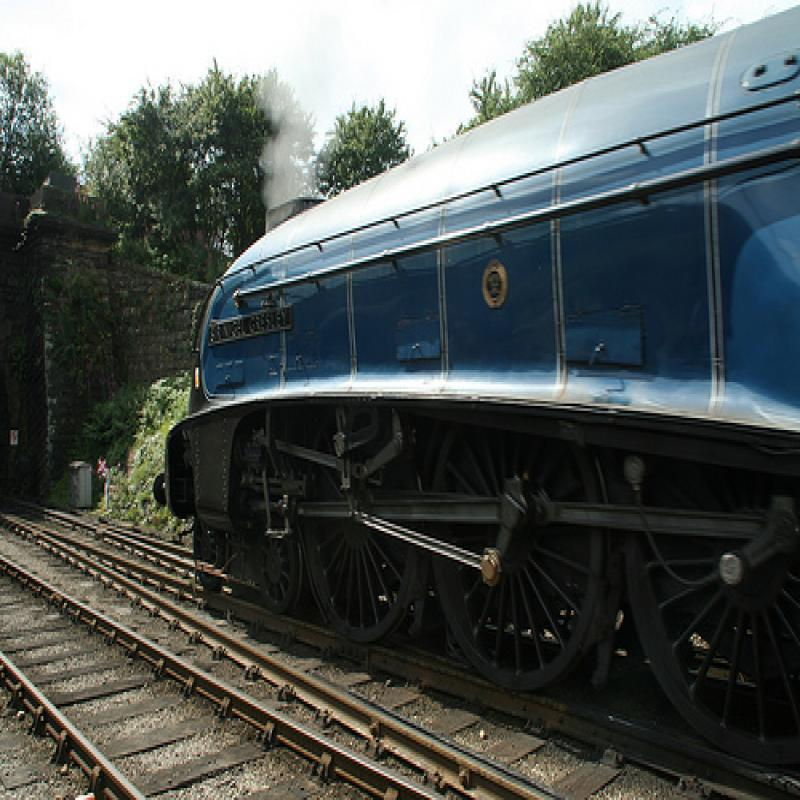train: (156, 18, 800, 772)
